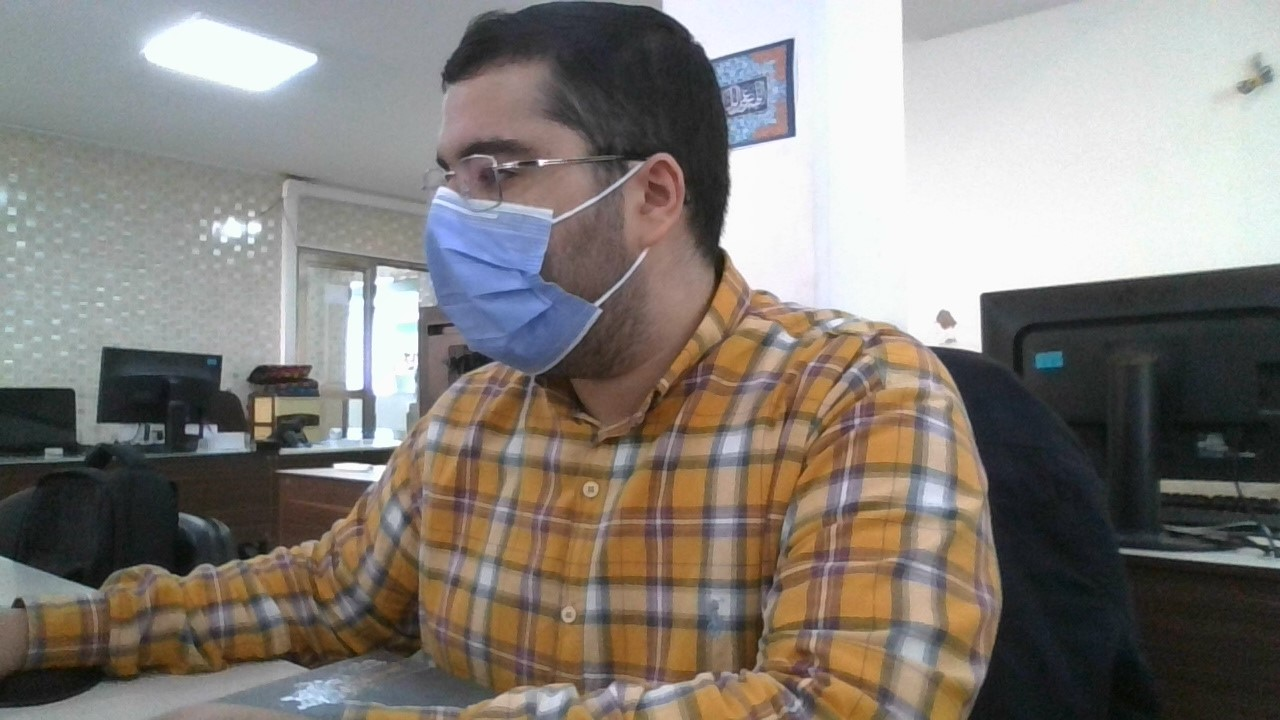Mask: (422, 182, 652, 379)
